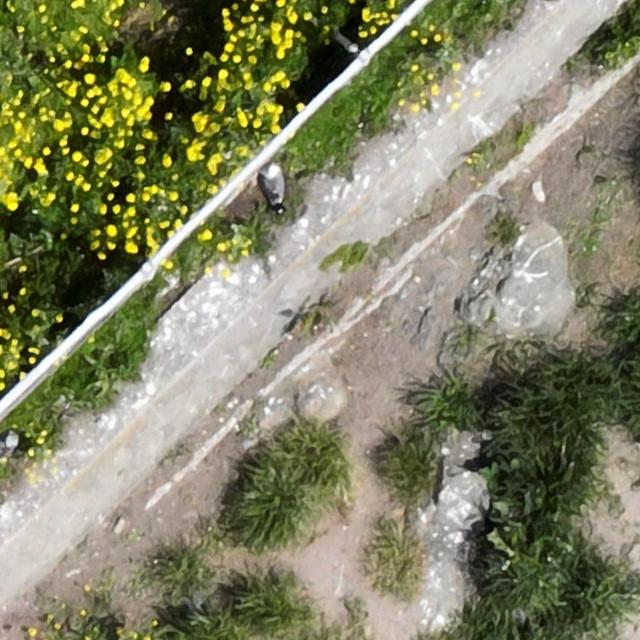umineko: (263, 168, 283, 202), (336, 31, 358, 52), (2, 434, 17, 453)
